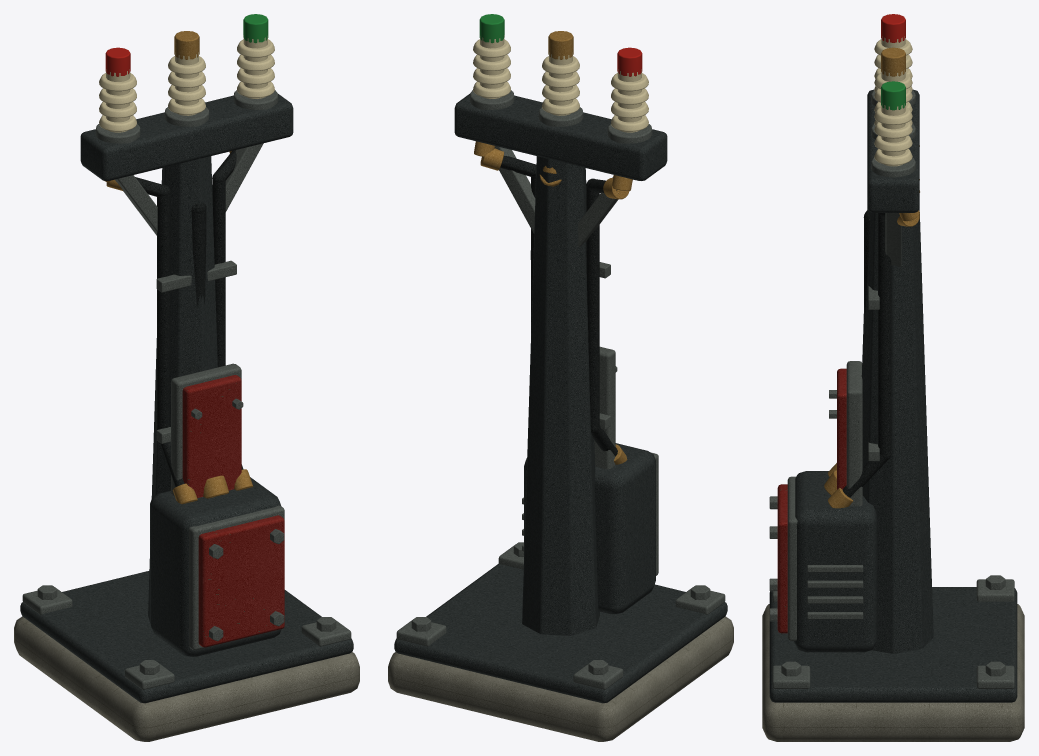
Rendered from power-1.glb.
The picture shows the model from 3 angles, left to right: view 1: azimuth 30°, elevation 25°; view 2: azimuth 150°, elevation 25°; view 3: azimuth 270°, elevation 25°; orthographic projection.
Visible parts, largest first — view 1: Cast foundation edge, Ferrocrete ground-contact plinth, Tapered armored monopole, Red armored service cover, Load-bearing power and circuit crossarm, Armored electrical cabinet, Monopole inspection armor, Cabinet to crossarm armored riser segment 1, Red armored service cover steel lip, Monopole inspection armor steel lip, Cabinet to crossarm armored riser segment 1.001, Copper bus armored central riser segment 1 (+12 smaller); view 2: Tapered armored monopole, Cast foundation edge, Ferrocrete ground-contact plinth, Armored electrical cabinet, Load-bearing power and circuit crossarm, Cabinet to crossarm armored riser segment 1, Monopole inspection armor steel lip, Triangular crossarm brace.001, Triangular crossarm brace, Seated foundation anchor plate.001, Seated foundation anchor plate.003, Seated foundation anchor plate (+6 smaller); view 3: Tapered armored monopole, Cast foundation edge, Ferrocrete ground-contact plinth, Armored electrical cabinet, Load-bearing power and circuit crossarm, Cabinet to crossarm armored riser segment 1.001, Monopole inspection armor steel lip, Red armored service cover, Red armored service cover steel lip, Monopole inspection armor, Triangular crossarm brace.001, Seated foundation anchor plate.002 (+12 smaller).
Part boxes in pixels (x1,y1,x2,y2): Cast foundation edge: (20, 571, 353, 703); Ferrocrete ground-contact plinth: (14, 616, 359, 741); Tapered armored monopole: (148, 156, 217, 621); Red armored service cover: (198, 515, 284, 647); Load-bearing power and circuit crossarm: (80, 94, 293, 180); Armored electrical cabinet: (150, 477, 281, 656); Monopole inspection armor: (182, 375, 241, 497); Cabinet to crossarm armored riser segment 1: (157, 193, 170, 429); Red armored service cover steel lip: (188, 505, 284, 650); Monopole inspection armor steel lip: (171, 363, 241, 495); Cabinet to crossarm armored riser segment 1.001: (212, 180, 225, 367); Copper bus armored central riser segment 1: (191, 209, 206, 307); Tapered armored monopole: (522, 156, 599, 635); Cast foundation edge: (394, 563, 727, 703); Ferrocrete ground-contact plinth: (388, 616, 733, 741); Armored electrical cabinet: (524, 443, 655, 614); Load-bearing power and circuit crossarm: (454, 94, 667, 180); Cabinet to crossarm armored riser segment 1: (586, 187, 599, 428); Monopole inspection armor steel lip: (594, 346, 615, 469); Triangular crossarm brace.001: (494, 146, 535, 233); Triangular crossarm brace: (578, 177, 618, 246); Seated foundation anchor plate.001: (573, 663, 623, 689); Seated foundation anchor plate.003: (396, 620, 446, 646); Seated foundation anchor plate: (675, 589, 725, 614); Tapered armored monopole: (861, 208, 933, 653); Cast foundation edge: (769, 587, 1017, 702); Ferrocrete ground-contact plinth: (762, 604, 1024, 741); Armored electrical cabinet: (794, 471, 877, 652); Load-bearing power and circuit crossarm: (867, 89, 919, 212); Cabinet to crossarm armored riser segment 1.001: (878, 214, 891, 455); Monopole inspection armor steel lip: (846, 361, 862, 506); Red armored service cover: (777, 484, 787, 633); Red armored service cover steel lip: (787, 476, 797, 640); Monopole inspection armor: (837, 368, 846, 489); Triangular crossarm brace.001: (885, 213, 901, 266); Seated foundation anchor plate.002: (772, 665, 810, 688).
Size of the model in its own units: 0.9 by 2.42 by 0.9.
Materials: 10 (7 with a texture image).
